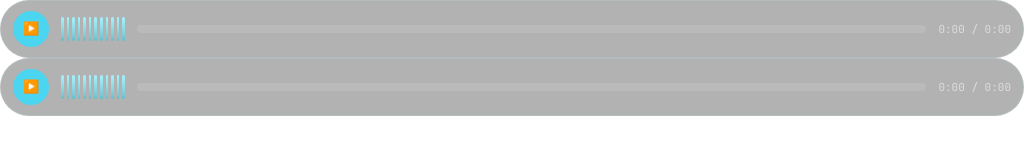
Test: one clip at a time › pauses whatever was playing when a second clip starts
This screenshot has width=1024, height=160.
Click the button named "Play first": (31, 29) [13,11,49,47]
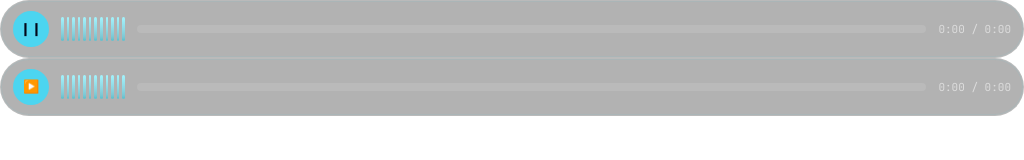
Expected: the button named "Pause first" is shown, [13,11,49,47]
Click the button named "Play second": (31, 87) [13,69,49,105]
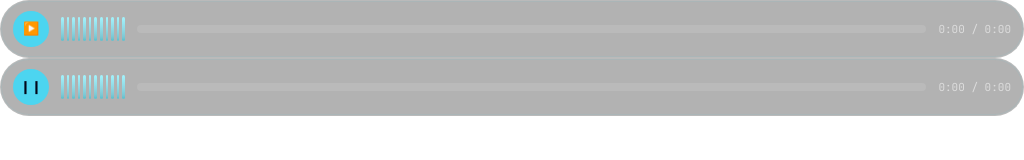
Expected: the button named "Play first" is shown, [13,11,49,47]
Expected: the button named "Pause second" is shown, [13,69,49,105]
